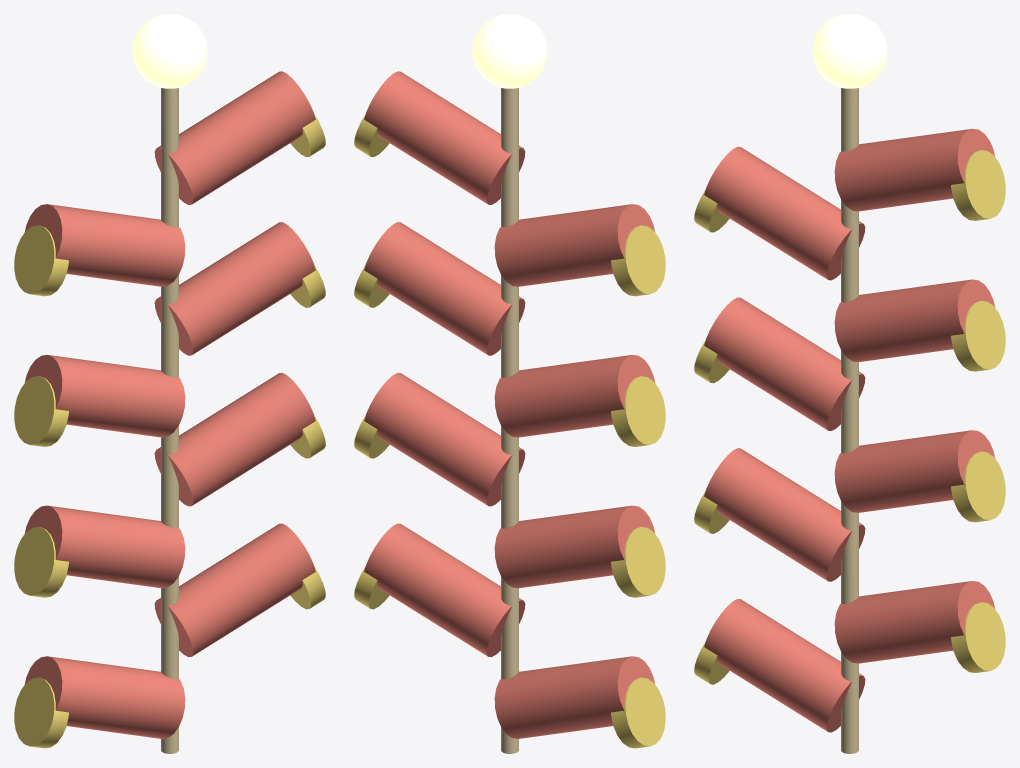
The model's file is phao_day.glb.
3 views of the same model, side by side, from view 1: azimuth 30°, elevation 25°; view 2: azimuth 150°, elevation 25°; view 3: azimuth 330°, elevation 25° (orthographic).
Visible parts, largest first — view 1: Cyl12, Cyl8, Cyl16, Cyl4, Cyl6, Cyl2, Cyl10, Cyl14, Cyl1, Sph1, Cyl11, Cyl15 (+6 smaller); view 2: Cyl12, Cyl8, Cyl16, Cyl4, Cyl6, Cyl2, Cyl10, Cyl14, Cyl1, Sph1, Cyl11, Cyl15 (+6 smaller); view 3: Cyl10, Cyl6, Cyl14, Cyl2, Cyl12, Cyl4, Cyl16, Cyl8, Cyl1, Sph1, Cyl5, Cyl9 (+6 smaller).
Part boxes in pixels (bbox=[...]): Cyl12: bbox=[154, 222, 315, 355]; Cyl8: bbox=[154, 372, 315, 506]; Cyl16: bbox=[154, 71, 315, 204]; Cyl4: bbox=[154, 523, 315, 657]; Cyl6: bbox=[24, 505, 185, 588]; Cyl2: bbox=[24, 656, 185, 738]; Cyl10: bbox=[25, 355, 185, 437]; Cyl14: bbox=[24, 204, 185, 286]; Cyl1: bbox=[161, 88, 178, 753]; Sph1: bbox=[132, 14, 207, 88]; Cyl11: bbox=[14, 376, 68, 446]; Cyl15: bbox=[14, 225, 68, 296]; Cyl12: bbox=[364, 222, 525, 355]; Cyl8: bbox=[364, 372, 525, 506]; Cyl16: bbox=[364, 71, 525, 204]; Cyl4: bbox=[364, 523, 525, 657]; Cyl6: bbox=[494, 505, 655, 588]; Cyl2: bbox=[494, 656, 655, 738]; Cyl10: bbox=[494, 355, 654, 437]; Cyl14: bbox=[494, 204, 655, 286]; Cyl1: bbox=[501, 88, 518, 753]; Sph1: bbox=[472, 14, 547, 88]; Cyl11: bbox=[611, 376, 665, 446]; Cyl15: bbox=[611, 225, 665, 296]; Cyl10: bbox=[704, 297, 865, 430]; Cyl6: bbox=[704, 448, 865, 581]; Cyl14: bbox=[704, 146, 865, 280]; Cyl2: bbox=[704, 599, 865, 732]; Cyl12: bbox=[834, 279, 995, 362]; Cyl4: bbox=[834, 581, 994, 663]; Cyl16: bbox=[834, 128, 994, 211]; Cyl8: bbox=[834, 430, 995, 512]; Cyl1: bbox=[841, 88, 858, 753]; Sph1: bbox=[812, 14, 887, 88]; Cyl5: bbox=[951, 602, 1005, 672]; Cyl9: bbox=[951, 451, 1005, 522].
Size of the model in its own units: 0.223 by 0.535 by 0.0495.
